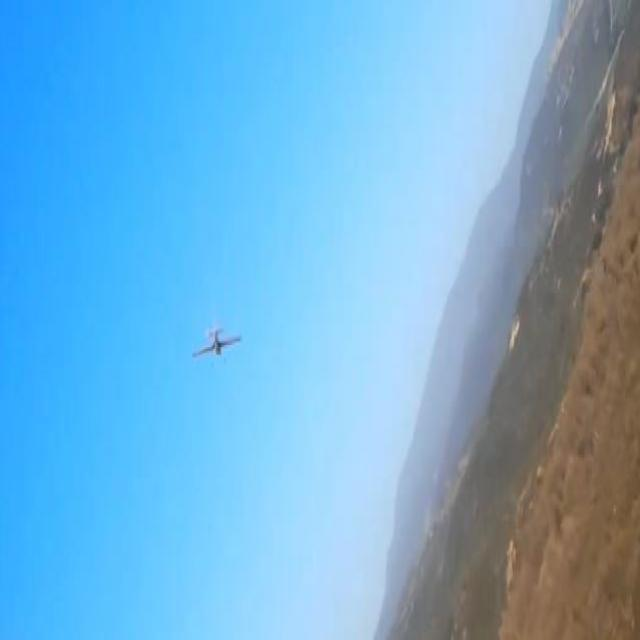iha: (191, 324, 242, 368)
